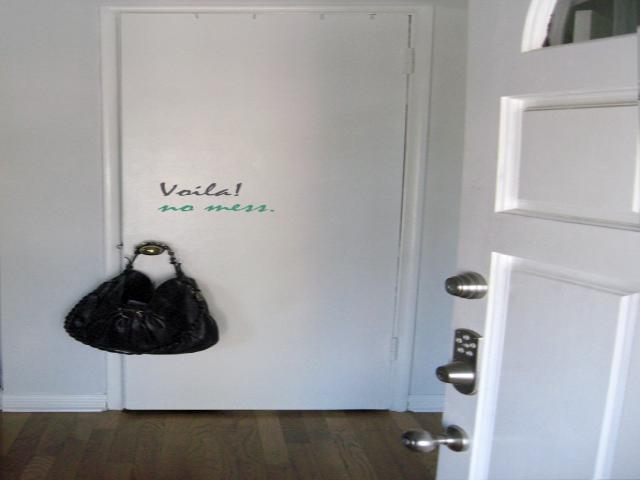Door-handle: (397, 424, 472, 453), (138, 244, 164, 255)
